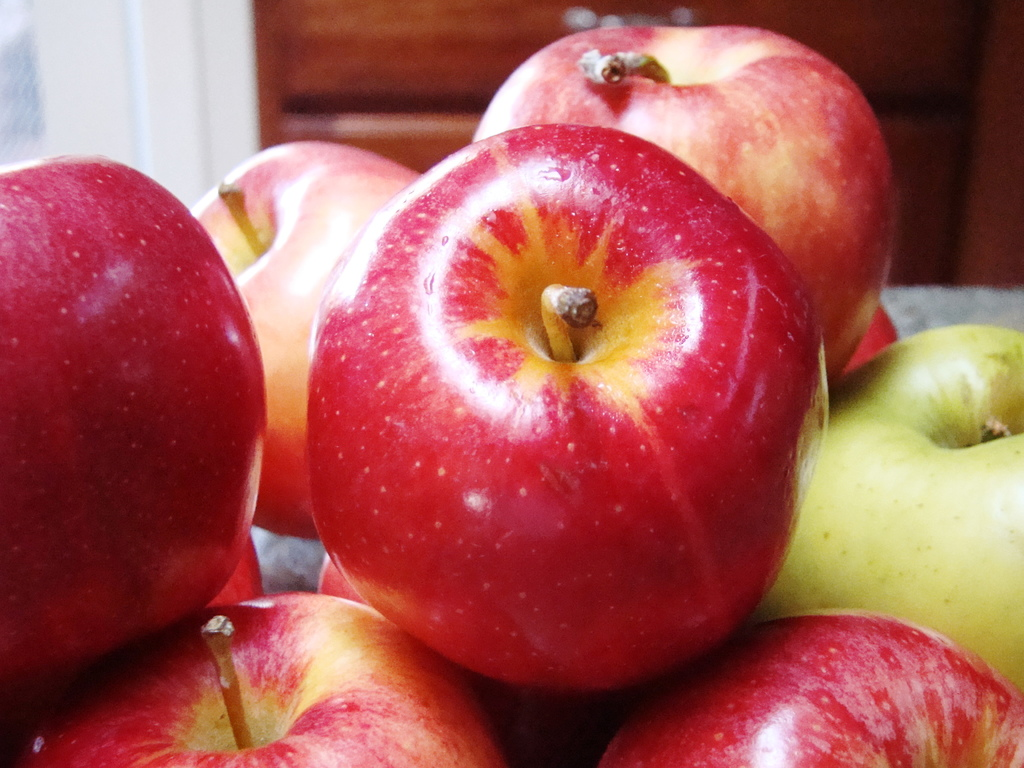Apple: (2, 21, 1022, 767), (305, 119, 829, 690)
